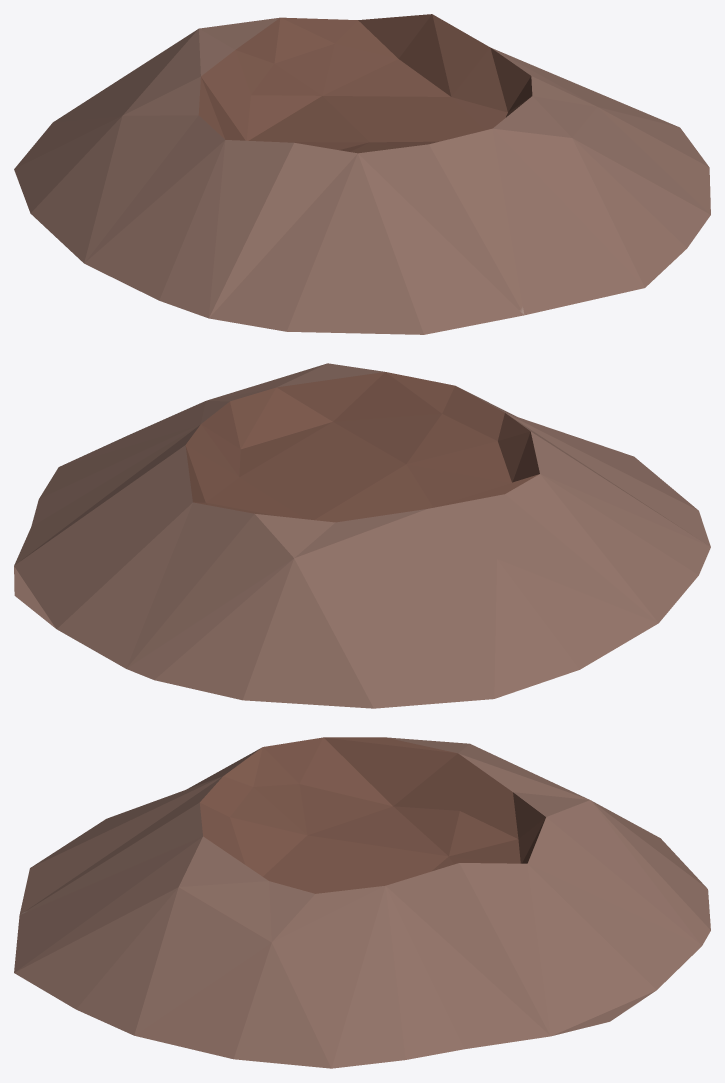
Rendered from crater_002.fbx.
3 renders of one model, top to bottom at view 1: azimuth 30°, elevation 25°; view 2: azimuth 150°, elevation 25°; view 3: azimuth 270°, elevation 25°, orthographic. The views are drawn at different scales.
Parts seen in each view (by area): view 1: crater_002; view 2: crater_002; view 3: crater_002.
Part boxes in pixels (x1,y1,x2,y2): crater_002: [14, 14, 710, 334]; crater_002: [14, 363, 710, 708]; crater_002: [14, 737, 710, 1068].
Size of the model in its own units: 2956 by 2997 by 542.
